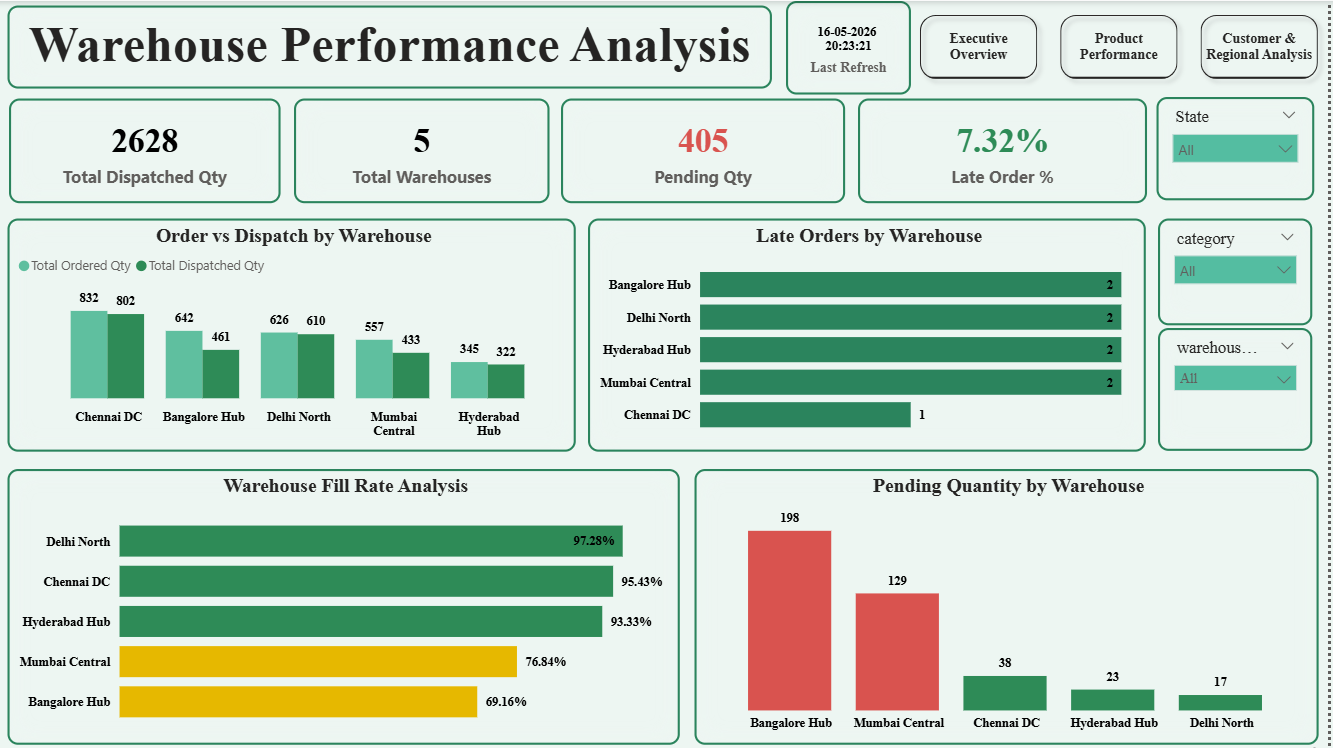

What the dashboard file says about the page in this screenshot:
{"tool":"powerbi","page":{"name":"Warehouse Performance","canvas":[1280,720],"ordinal":1},"visuals":[{"type":"card","fields":{"Values":["fact_order_fulfillment.Total Dispatched Qty"]},"box":[19.7,92.4,259.1,100],"z":0},{"type":"card","fields":{"Values":["fact_order_fulfillment.Total Warehouses"]},"box":[292.4,92.4,243.9,100],"z":1000},{"type":"card","fields":{"Values":["Query1.Pending Qty"]},"box":[547,92.4,271.2,100],"z":2000},{"type":"card","fields":{"Values":["fact_order_fulfillment.Late Order %"]},"box":[830.3,92.4,275.8,100],"z":3000},{"type":"clusteredColumnChart","title":"Order vs Dispatch by Warehouse","fields":{"Y":["fact_order_fulfillment.Total Ordered Qty","fact_order_fulfillment.Total Dispatched Qty"],"Category":["Query1.warehouse_name"]},"box":[19.1,208.4,542.4,222.7],"z":4000},{"type":"clusteredBarChart","title":"Warehouse Fill Rate Analysis","fields":{"Y":["fact_order_fulfillment.Fill Rate %"],"Category":["Query1.warehouse_name"]},"box":[18.6,446.9,641.7,263.6],"z":5000},{"type":"columnChart","title":"Pending Quantity by Warehouse","fields":{"Y":["fact_order_fulfillment.Pending Qty"],"Category":["Query1.warehouse_name"]},"box":[674.7,446.9,595.9,263.6],"z":6000},{"type":"slicer","fields":{"Values":["Query1.state"]},"box":[1115.8,91.7,150.4,98.8],"z":7000},{"type":"slicer","fields":{"Values":["Query1.category"]},"box":[1117.3,207.7,147.5,101.7],"z":8000},{"type":"slicer","fields":{"Values":["Query1.warehouse_name"]},"box":[1117.3,312.3,147.5,117.5],"z":9000},{"type":"textbox","box":[19.1,4.8,730.1,79.5],"z":10000},{"type":"card","fields":{"Values":["Date_Table.Last Refresh"]},"box":[761.9,0,119.3,89.1],"z":11000},{"type":"clusteredBarChart","title":"Late Orders by Warehouse","fields":{"Y":["fact_order_fulfillment.Late Orders"],"Category":["Query1.warehouse_name"]},"box":[572.6,208.4,532.9,222.7],"z":12000},{"type":"pageNavigator","box":[881.2,4.8,399.2,79.5],"z":13000}]}

Visuals, with their boxes in screenshot pixels (x1, y1, x2, y2), scaled from the page's 1280x720 canvas onto the 1333x748 screenshot:
card - fact_order_fulfillment.Total Dispatched Qty: x1=21, y1=96, x2=290, y2=200
card - fact_order_fulfillment.Total Warehouses: x1=305, y1=96, x2=559, y2=200
card - Query1.Pending Qty: x1=570, y1=96, x2=852, y2=200
card - fact_order_fulfillment.Late Order %: x1=865, y1=96, x2=1152, y2=200
"Order vs Dispatch by Warehouse" clusteredColumnChart: x1=20, y1=217, x2=585, y2=448
"Warehouse Fill Rate Analysis" clusteredBarChart: x1=19, y1=464, x2=688, y2=738
"Pending Quantity by Warehouse" columnChart: x1=703, y1=464, x2=1323, y2=738
slicer - Query1.state: x1=1162, y1=95, x2=1319, y2=198
slicer - Query1.category: x1=1164, y1=216, x2=1317, y2=321
slicer - Query1.warehouse_name: x1=1164, y1=324, x2=1317, y2=447
textbox: x1=20, y1=5, x2=780, y2=88
card - Date_Table.Last Refresh: x1=793, y1=0, x2=918, y2=93
"Late Orders by Warehouse" clusteredBarChart: x1=596, y1=217, x2=1151, y2=448
pageNavigator: x1=918, y1=5, x2=1332, y2=88
